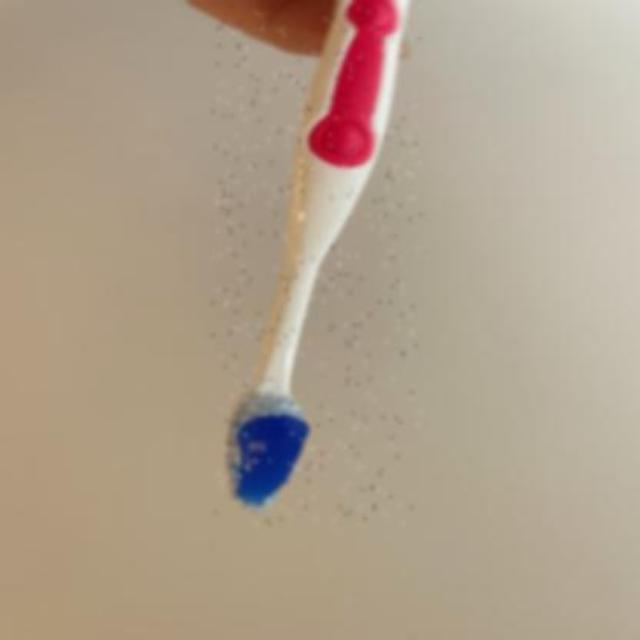toothbrush: (212, 0, 422, 524)
